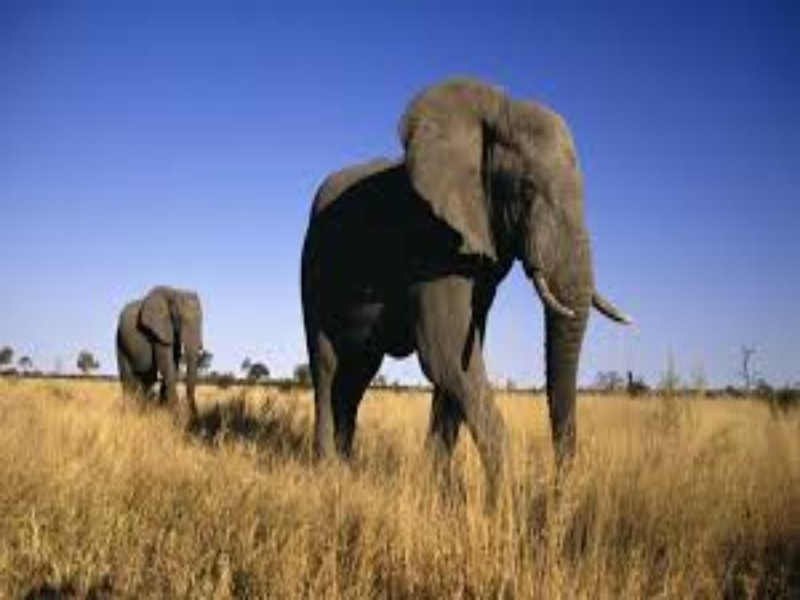elephant: (98, 74, 658, 511)
